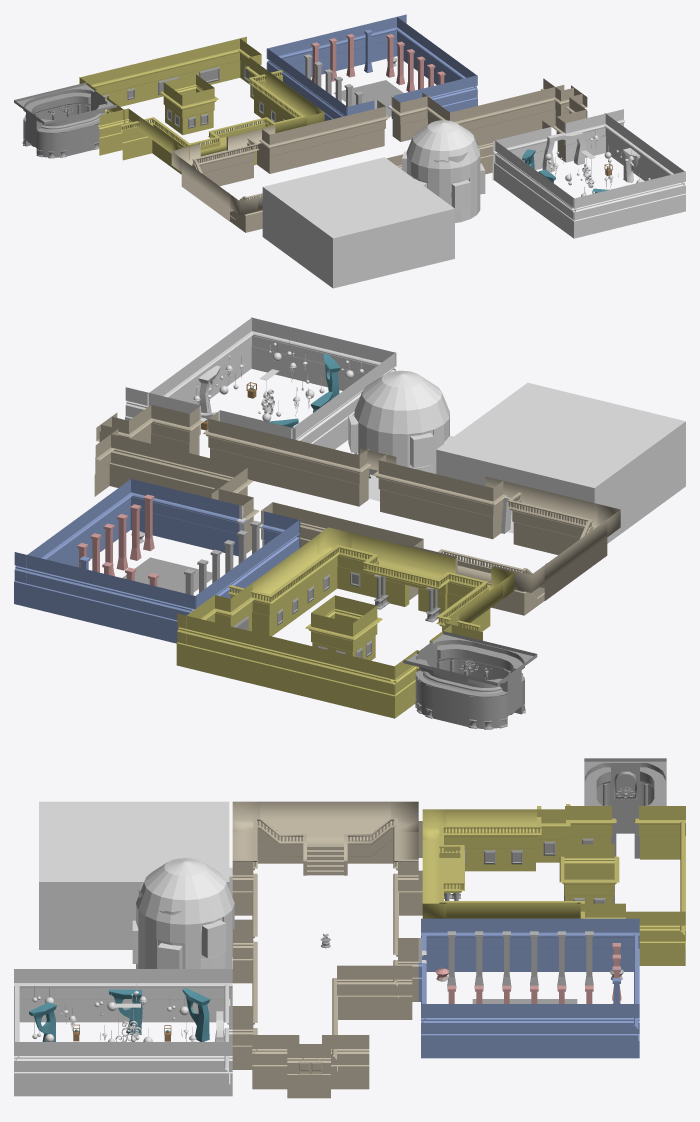
Rendered from Lvl.fbx.
3 renders of one model, top to bottom at view 1: azimuth 30°, elevation 25°; view 2: azimuth 150°, elevation 25°; view 3: azimuth 270°, elevation 25°, orthographic. The views are drawn at different scales.
Parts seen in each view (by area): view 1: front2; view 2: front2; view 3: front2.
Boxes of the visible parts, x1=… form: front2: x1=14, y1=14, x2=685, y2=288; front2: x1=14, y1=317, x2=685, y2=729; front2: x1=14, y1=758, x2=685, y2=1098.
Bounding box in the file's own units: 76.29 × 14.07 × 73.25.
